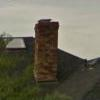Chimney: (24, 11, 65, 85)
